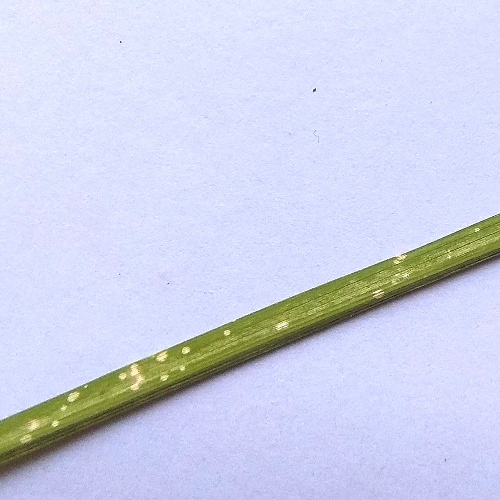Busuk Leher: (105, 352, 149, 392), (266, 313, 299, 337), (15, 420, 43, 447), (366, 278, 392, 306), (211, 323, 240, 344), (388, 250, 414, 269), (151, 346, 174, 366), (178, 337, 197, 360), (63, 389, 86, 404), (49, 416, 64, 433)
